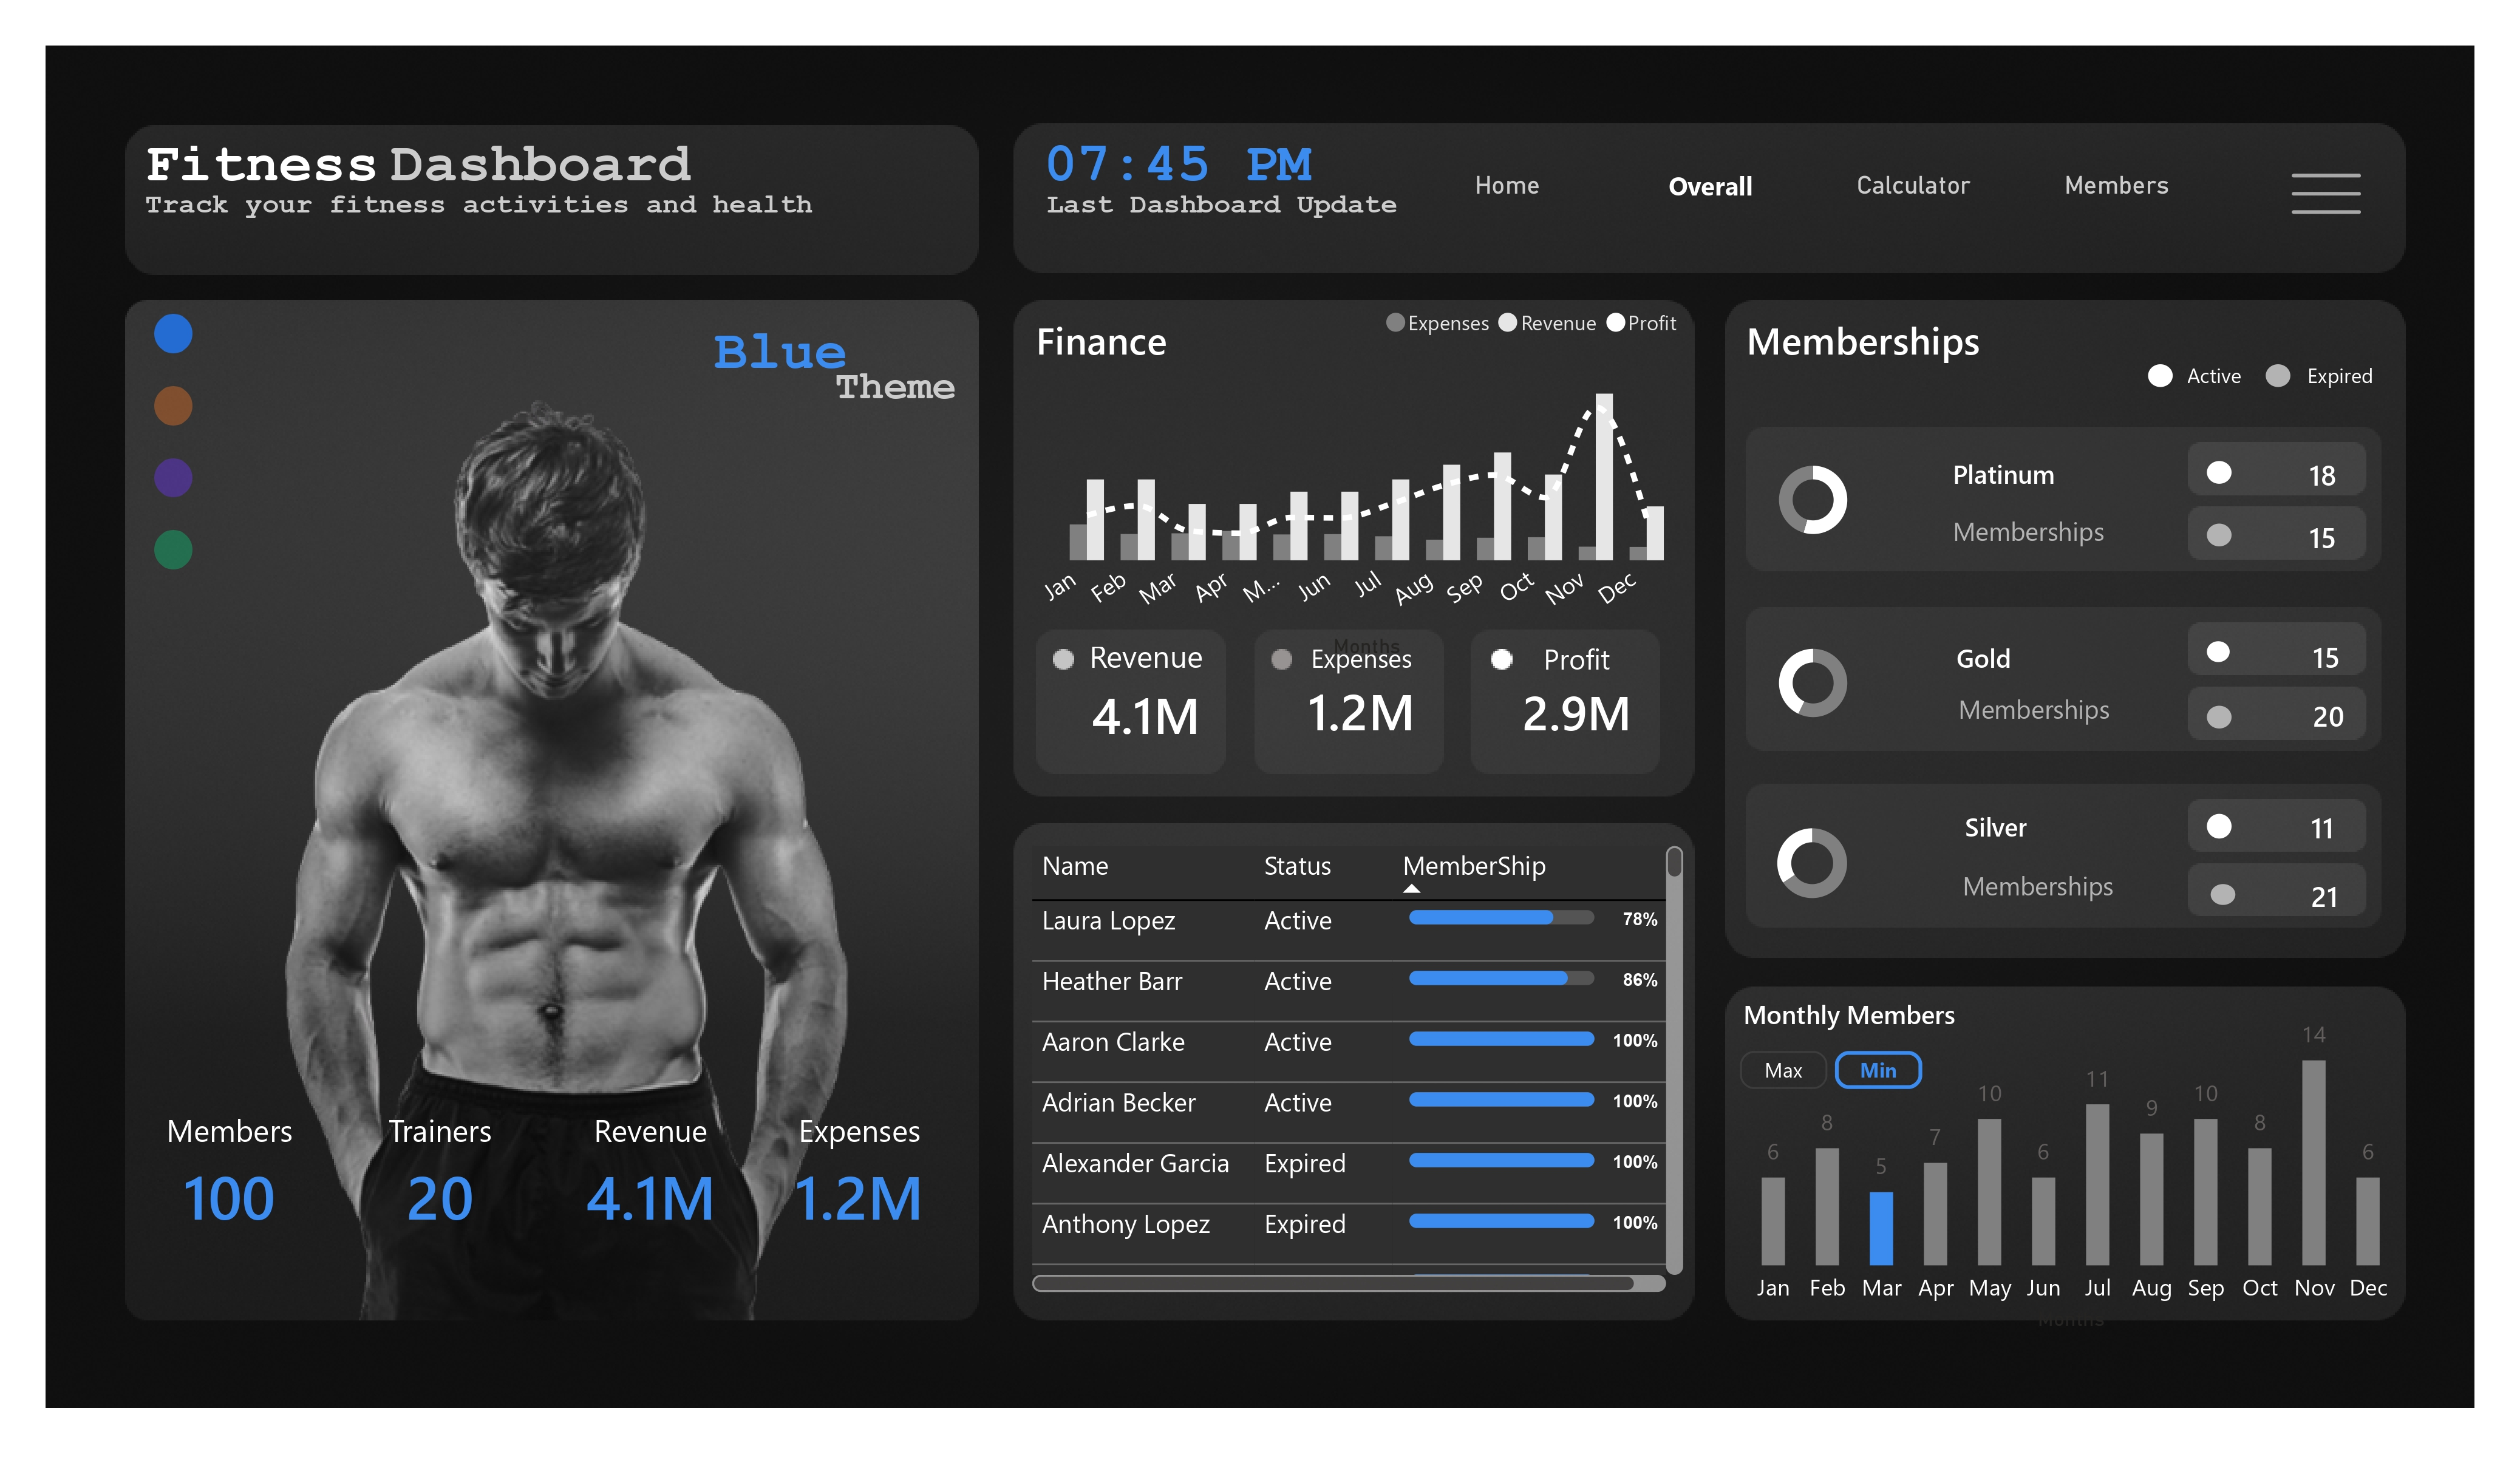

Layout of this report page (visuals, bound fields, positions):
{"tool":"powerbi","page":{"name":"Overall","canvas":[1280,720],"ordinal":1},"visuals":[{"type":"cardVisual","fields":{"Data":["_Measures.Users_Count"]},"box":[32.1,548,130,90.7],"z":0},{"type":"cardVisual","fields":{"Data":["Count(Users.Trainer Name)"]},"box":[143,548,130,90.7],"z":1000},{"type":"cardVisual","fields":{"Data":["_Measures.Revenue"]},"box":[253.9,548,130,90.7],"z":2000},{"type":"cardVisual","fields":{"Data":["Sum(Expenses.Amount)"]},"box":[631.2,300.5,124.7,79.4],"z":3000},{"type":"cardVisual","fields":{"Data":["_Measures.Revenue"]},"box":[517.8,300.5,124,80],"z":4000},{"type":"cardVisual","fields":{"Data":["Sum(Expenses.Amount)"]},"box":[517.8,557.5,9.4,90.7],"z":5000},{"type":"cardVisual","fields":{"Data":["_Measures.Profit"]},"box":[744.6,300.5,124.7,79.4],"z":6000},{"type":"lineClusteredColumnComboChart","fields":{"Category":["Date.Months"],"Y":["_Measures.Expenses","_Measures.Revenue"],"Y2":["_Measures.Profit"]},"box":[517.8,126.6,351.5,200.3],"z":7000},{"type":"shape","box":[513.4,139.2,86.9,31],"z":8000},{"type":"cardVisual","fields":{"Data":["_Measures.Expenses"]},"box":[364.7,548,128.5,90.7],"z":9000},{"type":"clusteredColumnChart","fields":{"Y":["_Measures.Users_Count"],"Category":["Date.Months"]},"box":[888.2,497,359.1,185.2],"z":10000},{"type":"shape","box":[888.5,497.4,124.1,26.6],"z":11000},{"type":"advancedSlicerVisual","fields":{"Values":["Min_Max_Switch.Type"]},"box":[888.5,524.9,105.5,30.1],"z":12000},{"type":"tableEx","fields":{"Values":["Users.UserName","Users.Status","_Measures.SVG_BarChart1"]},"box":[513.8,416.7,354.7,245],"z":13000},{"type":"shape","box":[969.9,211.9,124.1,26.6],"z":14000},{"type":"shape","box":[965.5,398.1,124.1,26.6],"z":15000},{"type":"shape","box":[959.4,309.3,124.1,26.6],"z":16000},{"type":"shape","box":[983.2,242.1,124.1,26.6],"z":17000},{"type":"shape","box":[987.7,429.2,124.1,26.6],"z":18000},{"type":"shape","box":[985.9,336.1,124.1,26.6],"z":19000},{"type":"donutChart","fields":{"Y":["_Measures.User_Platinum"],"Category":["Users.Status"]},"box":[903.5,210.1,55.9,58.5],"z":20000},{"type":"donutChart","fields":{"Category":["Users.Status"],"Y":["_Measures.User_Gold"]},"box":[903.5,306.8,55.9,58.5],"z":21000},{"type":"donutChart","fields":{"Category":["Users.Status"],"Y":["_Measures.User_Silver"]},"box":[902.7,401.7,55.9,58.5],"z":22000},{"type":"cardVisual","fields":{"Data":["_Measures.Platinum_Active"]},"box":[1188.2,210.1,33.7,28.4],"z":23000},{"type":"cardVisual","fields":{"Data":["_Measures.Platinum_Expired"]},"box":[1188.2,242.1,33.7,31],"z":24000},{"type":"cardVisual","fields":{"Data":["_Measures.Gold_Active"]},"box":[1190,305,31.9,31],"z":25000},{"type":"cardVisual","fields":{"Data":["_Measures.Gold_Expired"]},"box":[1189.8,336.1,35.5,31],"z":26000},{"type":"cardVisual","fields":{"Data":["_Measures.Silver_Active"]},"box":[1189.1,395.5,30.1,31],"z":27000},{"type":"cardVisual","fields":{"Data":["_Measures.Silver_Expired"]},"box":[1189.1,430.9,33.7,31],"z":28000},{"type":"shape","box":[1139.4,219,12.4,12.4],"z":29000},{"type":"shape","box":[1139.4,405.2,12.4,12.4],"z":30000},{"type":"shape","box":[1138.5,313.9,12.4,11.5],"z":31000},{"type":"shape","box":[1141.2,441.6,12.4,11.5],"z":32000},{"type":"shape","box":[1139.4,348.5,12.4,11.5],"z":33000},{"type":"shape","box":[1139.4,251.8,12.4,12.4],"z":34000},{"type":"shape","box":[1108.4,167.6,12.4,12.4],"z":35000},{"type":"shape","box":[1170.4,167.6,12.4,12.4],"z":36000},{"type":"shape","box":[1116.2,160.5,54.1,26.6],"z":37000},{"type":"shape","box":[1176.5,160.5,65.6,26.6],"z":38000},{"type":"shape","box":[888.5,139.2,139.2,31],"z":39000},{"type":"shape","box":[46.4,44.7,135.2,35],"z":40000},{"type":"shape","box":[176.8,44.7,168.6,35],"z":41000},{"type":"shape","box":[48,67,361.1,35],"z":42000},{"type":"shape","box":[523.3,44.5,146.3,35],"z":43000},{"type":"shape","box":[523.3,66.8,194.1,35],"z":44000},{"type":"image","box":[1164.3,55.7,77.9,46.1],"z":45000},{"type":"pageNavigator","box":[717.4,52.5,429.5,42.9],"z":46000},{"type":"advancedSlicerVisual","fields":{"Values":["ColorCodes.Icon"]},"box":[46.1,132,42.9,157.5],"z":47000},{"type":"shape","box":[313.7,143.6,147.4,34],"z":48000},{"type":"shape","box":[287.2,162.5,194.6,34],"z":49000}]}

Visuals, with their boxes on the page's 1280x720 design canvas (x1, y1, x2, y2). These are canvas units, not pixel positions in the 2520x1457 screenshot, which may show the page scaled, cropped or inside an application window:
cardVisual - _Measures.Users_Count: detection(32, 548, 162, 639)
cardVisual - Count(Users.Trainer Name): detection(143, 548, 273, 639)
cardVisual - _Measures.Revenue: detection(254, 548, 384, 639)
cardVisual - Sum(Expenses.Amount): detection(631, 300, 756, 380)
cardVisual - _Measures.Revenue: detection(518, 300, 642, 380)
cardVisual - Sum(Expenses.Amount): detection(518, 558, 527, 648)
cardVisual - _Measures.Profit: detection(745, 300, 869, 380)
lineClusteredColumnComboChart - Date.Months x _Measures.Expenses: detection(518, 127, 869, 327)
shape: detection(513, 139, 600, 170)
cardVisual - _Measures.Expenses: detection(365, 548, 493, 639)
clusteredColumnChart - _Measures.Users_Count x Date.Months: detection(888, 497, 1247, 682)
shape: detection(888, 497, 1013, 524)
advancedSlicerVisual - Min_Max_Switch.Type: detection(888, 525, 994, 555)
tableEx - Users.UserName x Users.Status: detection(514, 417, 868, 662)
shape: detection(970, 212, 1094, 238)
shape: detection(966, 398, 1090, 425)
shape: detection(959, 309, 1084, 336)
shape: detection(983, 242, 1107, 269)
shape: detection(988, 429, 1112, 456)
shape: detection(986, 336, 1110, 363)
donutChart - _Measures.User_Platinum x Users.Status: detection(904, 210, 959, 269)
donutChart - Users.Status x _Measures.User_Gold: detection(904, 307, 959, 365)
donutChart - Users.Status x _Measures.User_Silver: detection(903, 402, 959, 460)
cardVisual - _Measures.Platinum_Active: detection(1188, 210, 1222, 238)
cardVisual - _Measures.Platinum_Expired: detection(1188, 242, 1222, 273)
cardVisual - _Measures.Gold_Active: detection(1190, 305, 1222, 336)
cardVisual - _Measures.Gold_Expired: detection(1190, 336, 1225, 367)
cardVisual - _Measures.Silver_Active: detection(1189, 396, 1219, 426)
cardVisual - _Measures.Silver_Expired: detection(1189, 431, 1223, 462)
shape: detection(1139, 219, 1152, 231)
shape: detection(1139, 405, 1152, 418)
shape: detection(1138, 314, 1151, 325)
shape: detection(1141, 442, 1154, 453)
shape: detection(1139, 348, 1152, 360)
shape: detection(1139, 252, 1152, 264)
shape: detection(1108, 168, 1121, 180)
shape: detection(1170, 168, 1183, 180)
shape: detection(1116, 160, 1170, 187)
shape: detection(1176, 160, 1242, 187)
shape: detection(888, 139, 1028, 170)
shape: detection(46, 45, 182, 80)
shape: detection(177, 45, 345, 80)
shape: detection(48, 67, 409, 102)
shape: detection(523, 44, 670, 80)
shape: detection(523, 67, 717, 102)
image: detection(1164, 56, 1242, 102)
pageNavigator: detection(717, 52, 1147, 95)
advancedSlicerVisual - ColorCodes.Icon: detection(46, 132, 89, 290)
shape: detection(314, 144, 461, 178)
shape: detection(287, 162, 482, 196)
